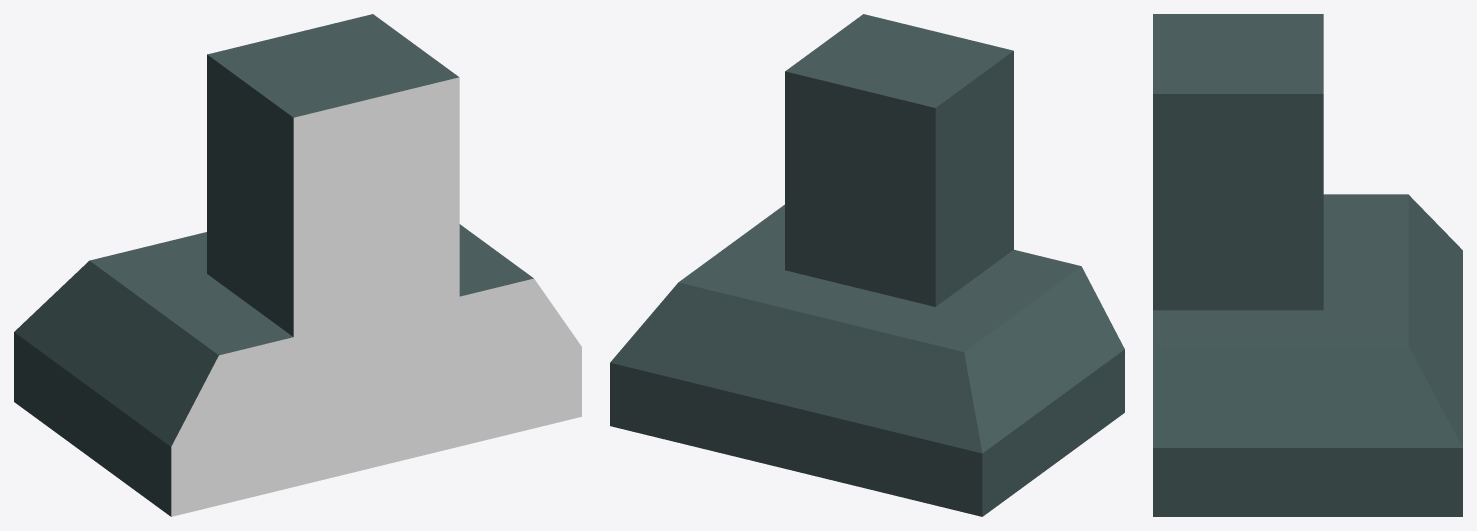
The model's file is Appliance_Kitchen_Hood_Large.glb.
3 views of the same model, side by side, from view 1: azimuth 30°, elevation 25°; view 2: azimuth 150°, elevation 25°; view 3: azimuth 270°, elevation 25° (orthographic). The views are drawn at different scales.
Parts seen in each view (by area): view 1: hoodLarge; view 2: hoodLarge; view 3: hoodLarge.
Boxes of the visible parts, x1,y1,x2,y2 form: hoodLarge: [14, 14, 581, 516]; hoodLarge: [610, 14, 1124, 516]; hoodLarge: [1153, 14, 1462, 516].
Bounding box in the file's own units: 0.43 × 0.3695 × 0.2849.
